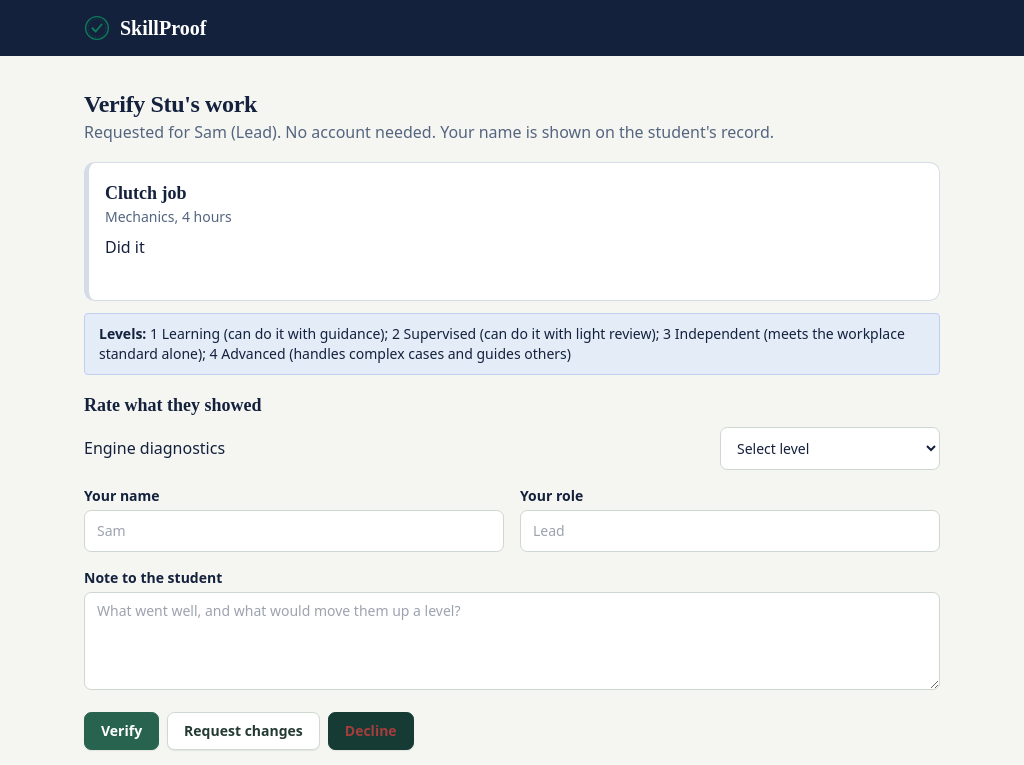
it: key actions send the right requests › a supervisor must rate every competency before verifying, and the sign-off is posted once ratings exist
The image size is (1024, 765).
Click the button "Verify" at (122, 731), box [84,712,159,750]
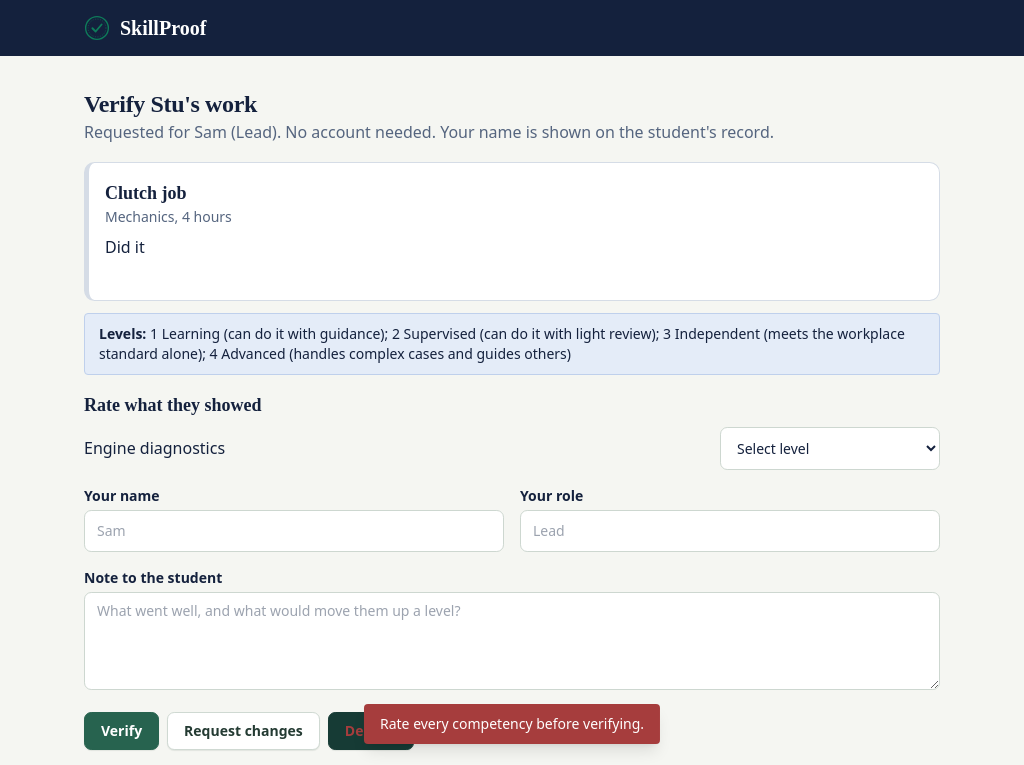
Expected: the text "Rate every competency before verifying." is shown, [364,704,660,744]
Select "3 Independent" in the dropdown named "Level for Engine diagnostics" at (830, 448), box [720,427,940,470]
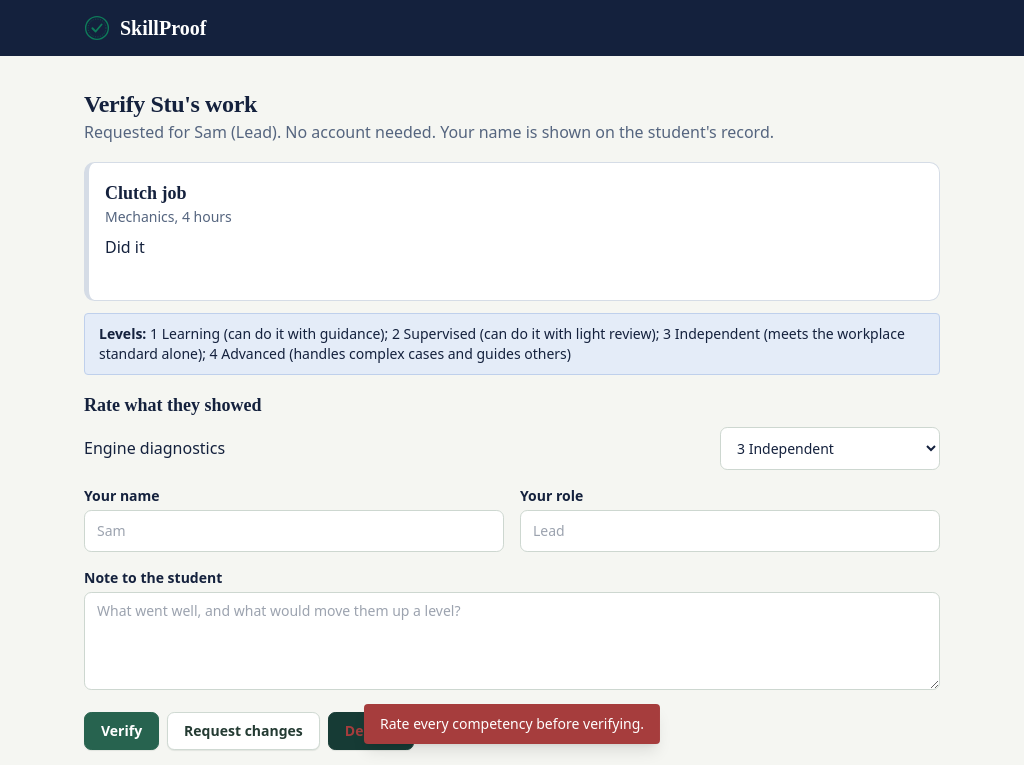
Click the button "Verify" at (122, 731), box [84,712,159,750]
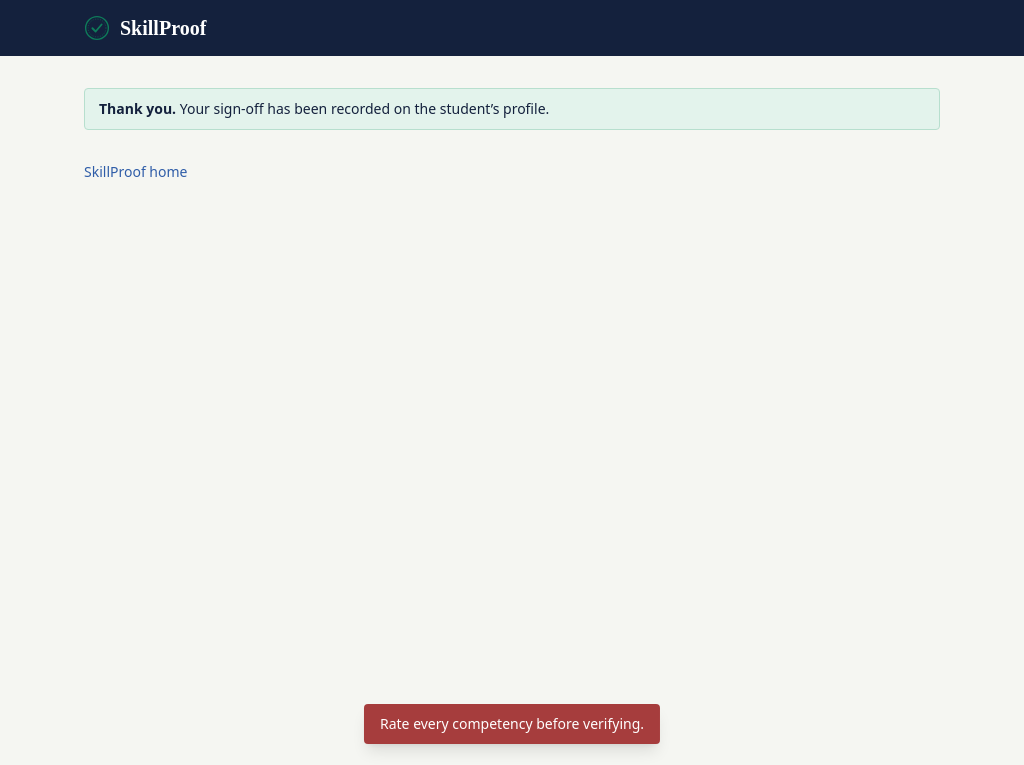
Expected: the text "Thank you." is shown, [99,99,176,118]
